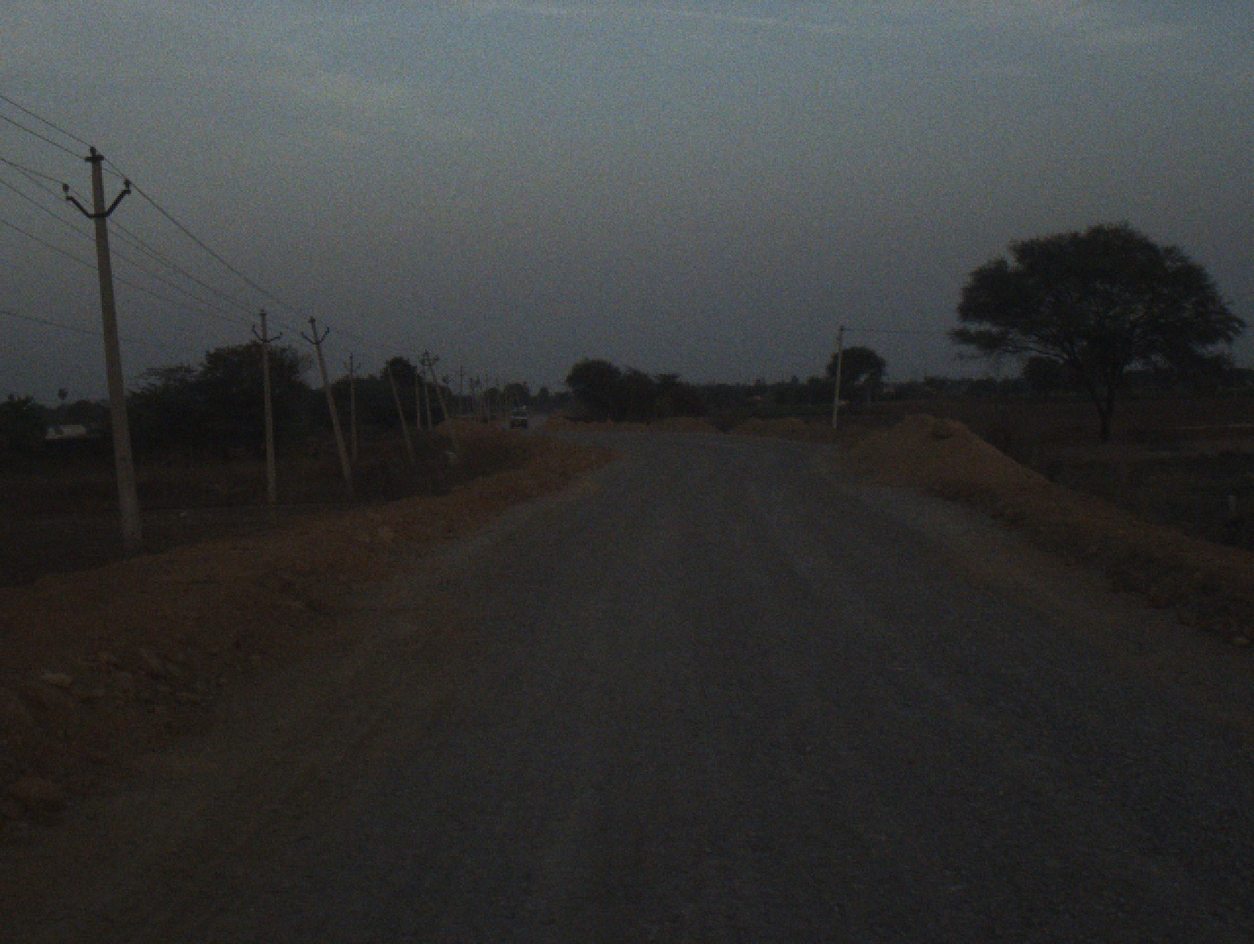car: (505, 404, 528, 427)
